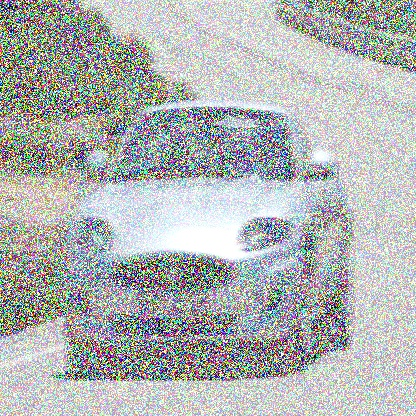Vehicle: (63, 96, 352, 366)
